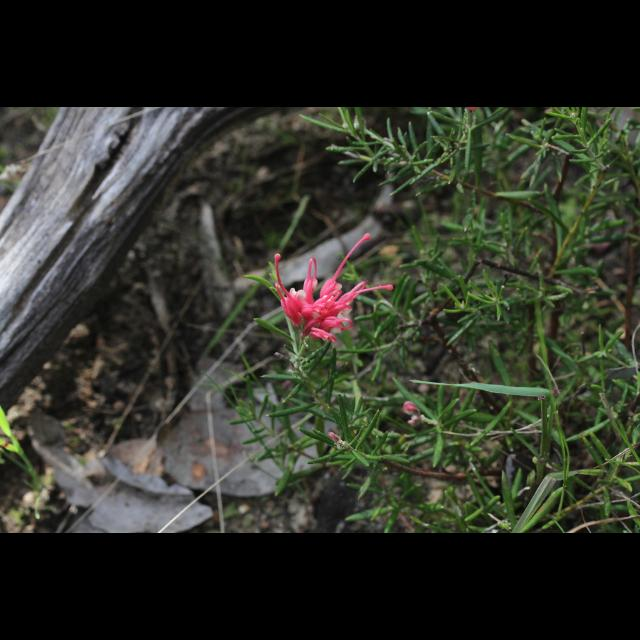Flower: (272, 262, 384, 348)
